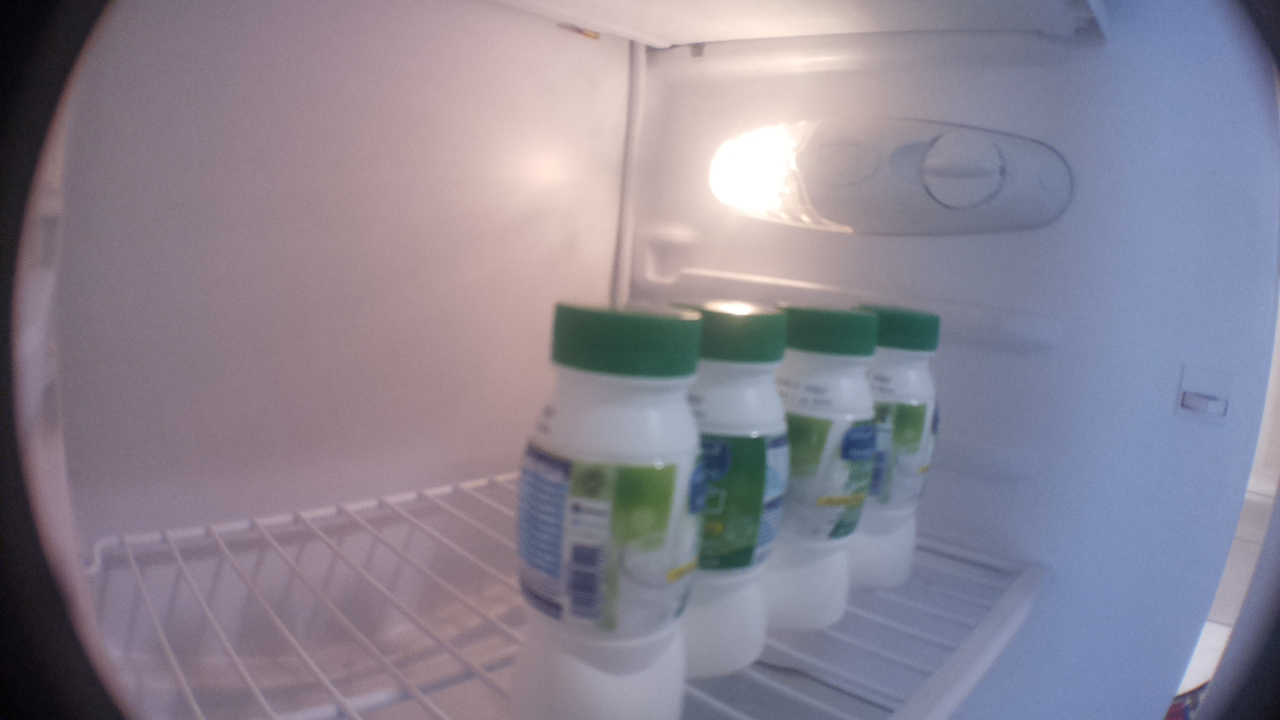laban: (517, 294, 701, 720), (690, 298, 798, 680), (778, 300, 880, 634), (860, 301, 940, 591)
